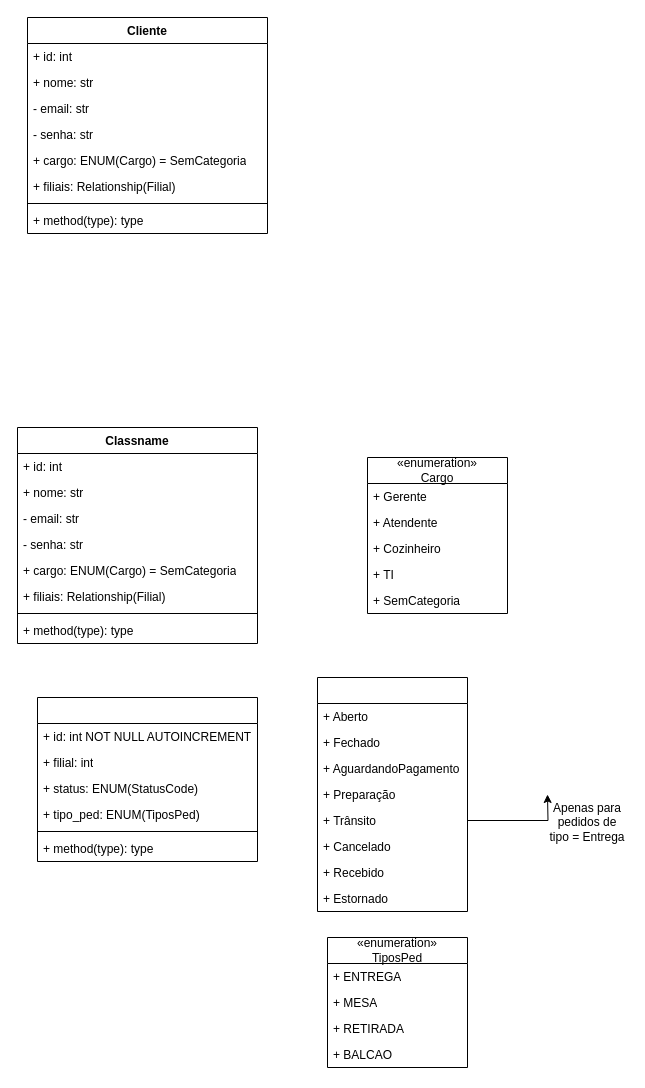
Image size: 645x1088. Some labels were removed from this diagram. The box of each missing label's shape, as (x1, y1, x2, y2) in pixels:
Pedido: (36, 696, 258, 862)
«enumeration» StatusCode: (316, 676, 468, 912)
